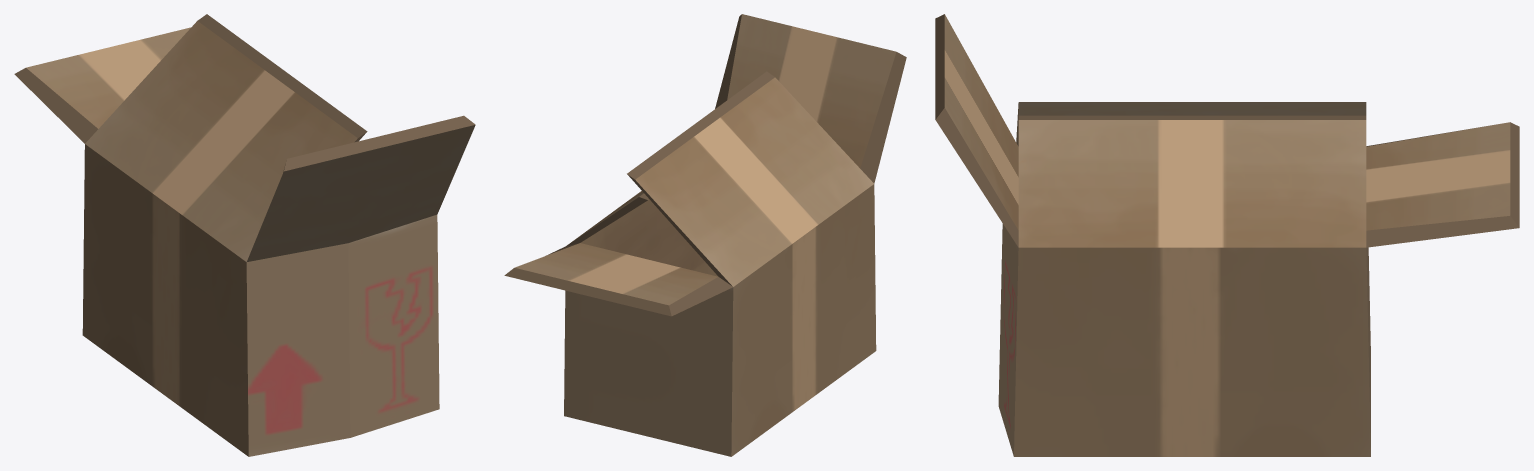
File: CaixaPapelao.fbx
3 renders of one model, left to right at view 1: azimuth 30°, elevation 25°; view 2: azimuth 150°, elevation 25°; view 3: azimuth 270°, elevation 25°, orthographic. The views are drawn at different scales.
Visible parts, largest first — view 1: CaixaPapelao; view 2: CaixaPapelao; view 3: CaixaPapelao.
Boxes of the visible parts, <box> form: CaixaPapelao: <box>14,14,475,456</box>; CaixaPapelao: <box>504,14,906,456</box>; CaixaPapelao: <box>935,14,1519,456</box>.
Bounding box in the file's own units: 0.42 × 0.6664 × 1.02.
